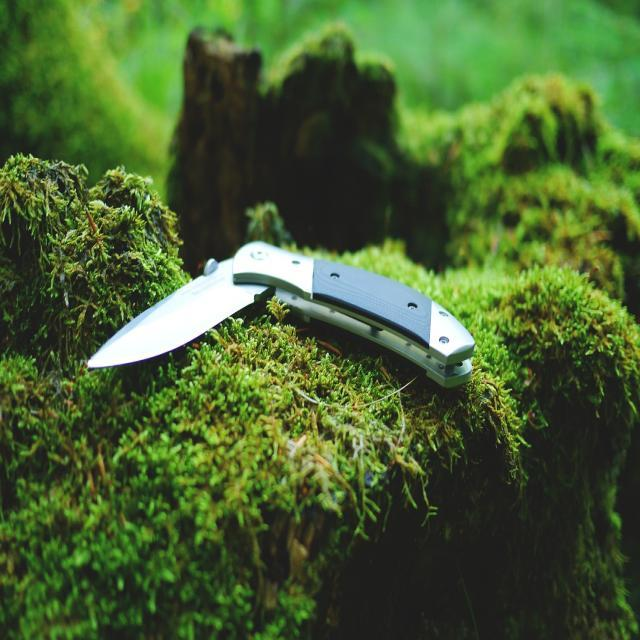Knife: (88, 241, 475, 387)
